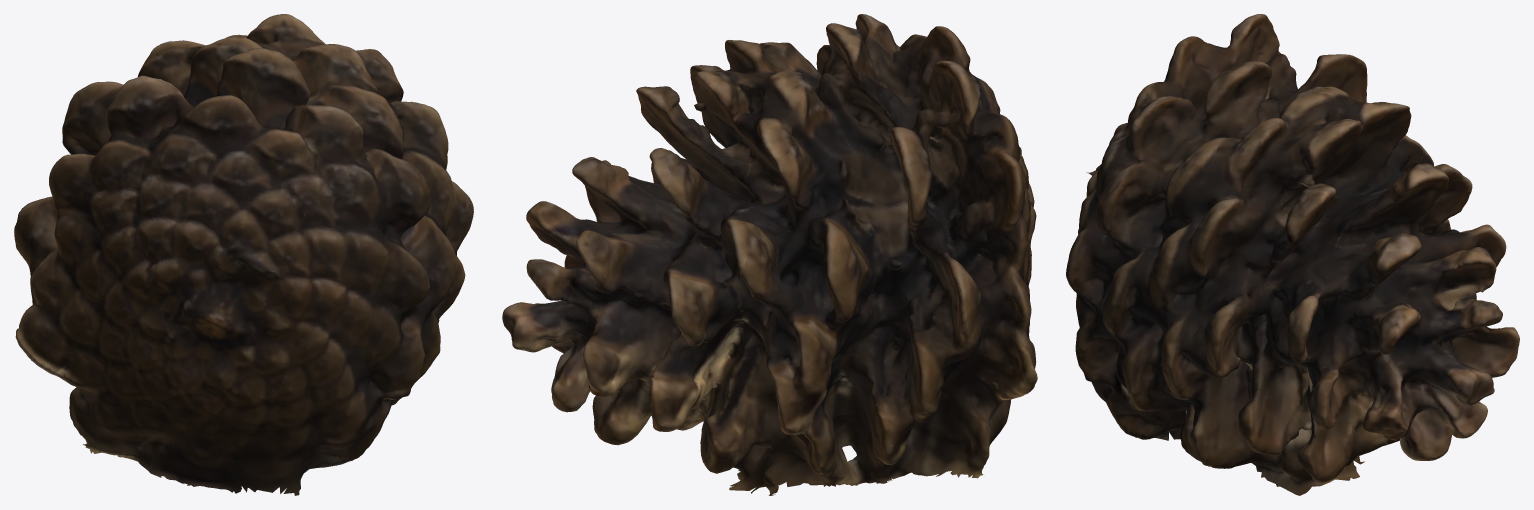
The model's file is pine-cone.glb.
3 renders of one model, left to right at view 1: azimuth 30°, elevation 25°; view 2: azimuth 150°, elevation 25°; view 3: azimuth 270°, elevation 25°, orthographic. The views are drawn at different scales.
Visible parts, largest first — view 1: cone; view 2: cone; view 3: cone.
Boxes of the visible parts, bbox=[...] form: cone: bbox=[14, 14, 473, 495]; cone: bbox=[502, 14, 1037, 495]; cone: bbox=[1066, 14, 1519, 495].
Bounding box in the file's own units: 2.03 × 1.85 × 1.91.
1 material, 1 textured.
